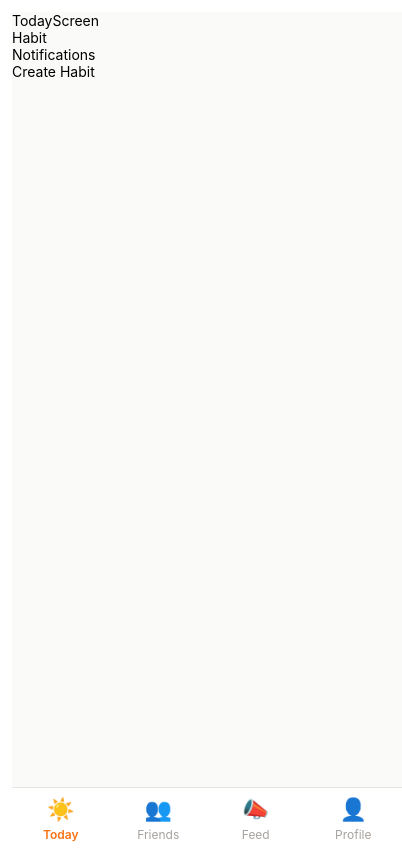
RootNavigator › navigates to notifications overlay from Today
What coordinates should you click on to do the following:
click the element with test id "notif-press"
I would click on:
 (54, 54)
Its box is x1=12 y1=46 x2=96 y2=63.
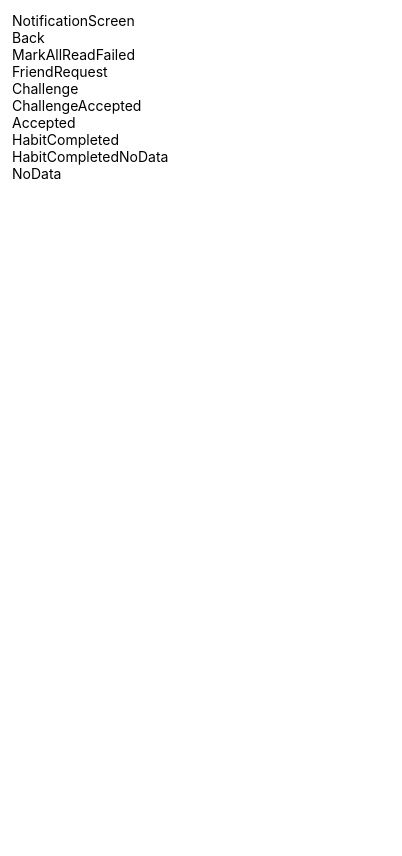
Now the element with test id "notification-screen" is shown, box x1=12 y1=12 x2=168 y2=182
Now the element with test id "tab-bar" is gone
